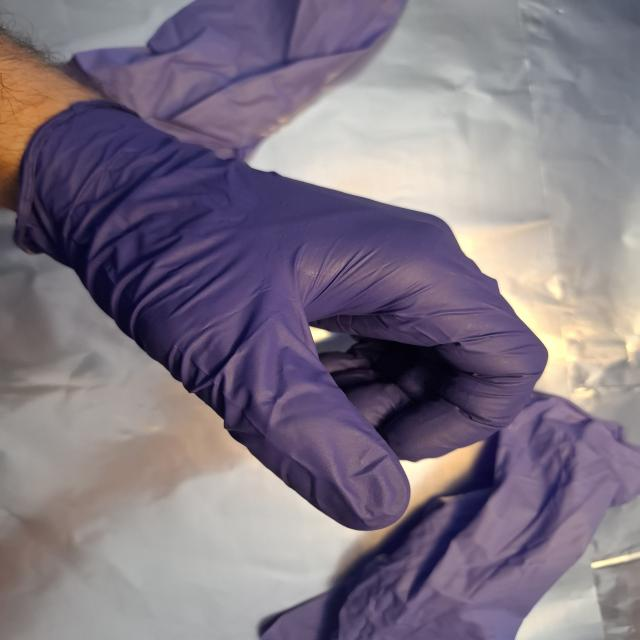glove_on: (15, 98, 554, 536)
